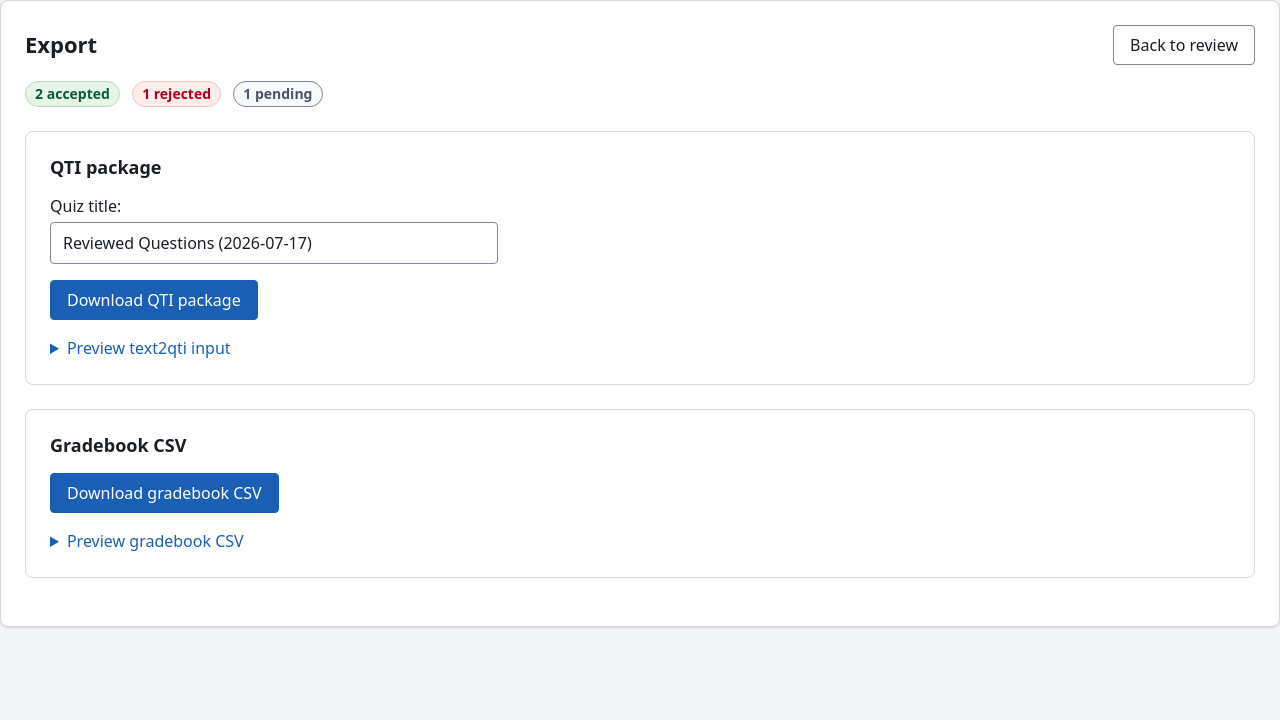
Export: downloading › generates and downloads the QTI zip on success
Click the button "Download QTI package": (154,300) [50,280,258,320]
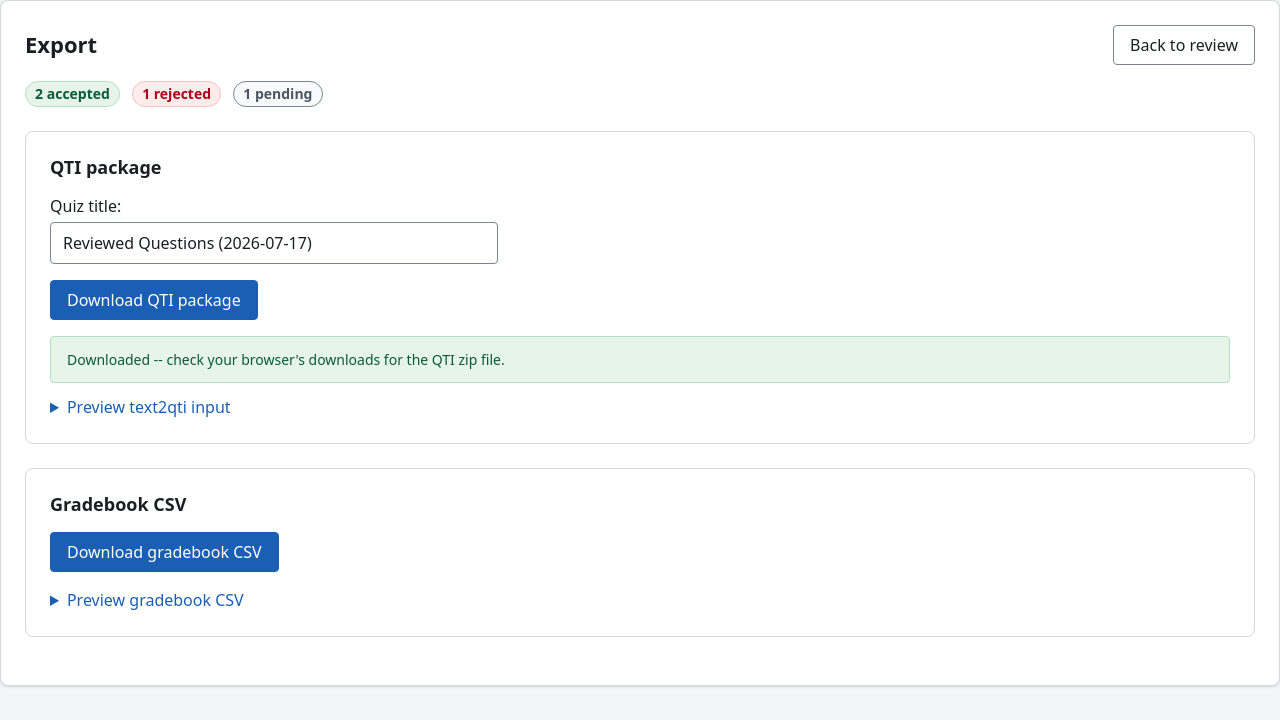
expect the text "Downloaded" is shown: met, box [67,350,505,369]
